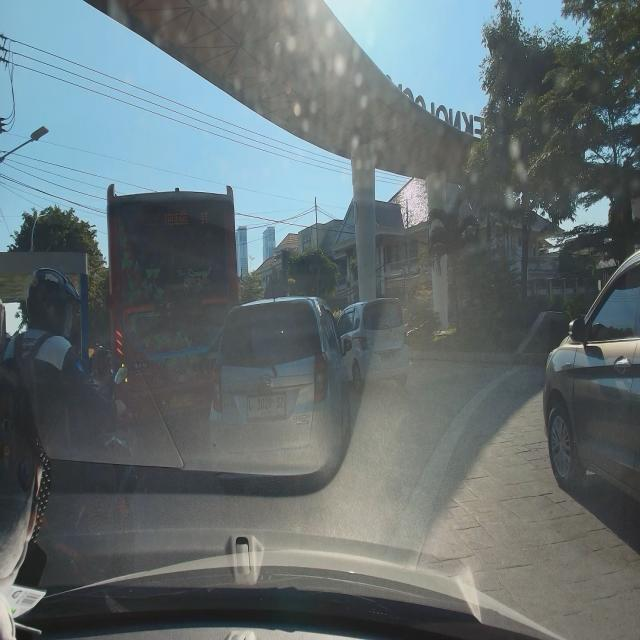bus: (101, 170, 244, 437)
car: (203, 295, 354, 478), (338, 294, 413, 392)
license-plate: (246, 390, 287, 422)
